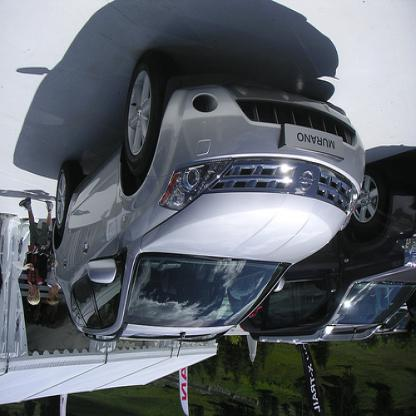car: (52, 47, 370, 363), (226, 164, 416, 348)
person: (17, 193, 56, 310), (45, 230, 66, 312)
